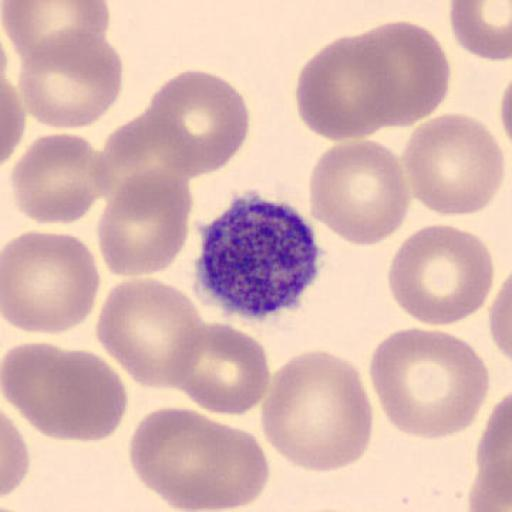Platelet: (193, 188, 325, 323)
RBC: (129, 404, 271, 511), (368, 325, 491, 441), (260, 348, 374, 473), (2, 343, 130, 445), (96, 276, 206, 391), (144, 68, 251, 178), (306, 139, 412, 247), (400, 111, 506, 218), (387, 222, 495, 327), (16, 27, 124, 130), (352, 19, 452, 129), (294, 32, 394, 141), (2, 230, 102, 336), (95, 169, 192, 278), (93, 110, 194, 212), (164, 321, 271, 417), (10, 132, 108, 226), (0, 0, 112, 71), (472, 392, 512, 512), (448, 0, 512, 63), (0, 35, 26, 174), (0, 406, 30, 502), (0, 74, 26, 174), (489, 272, 512, 382), (488, 276, 512, 360), (499, 70, 512, 152)
